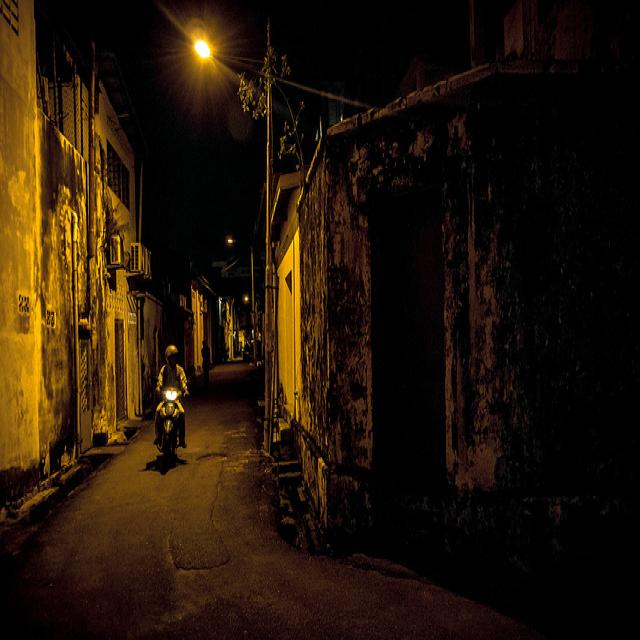Motorbike: (150, 349, 193, 458)
